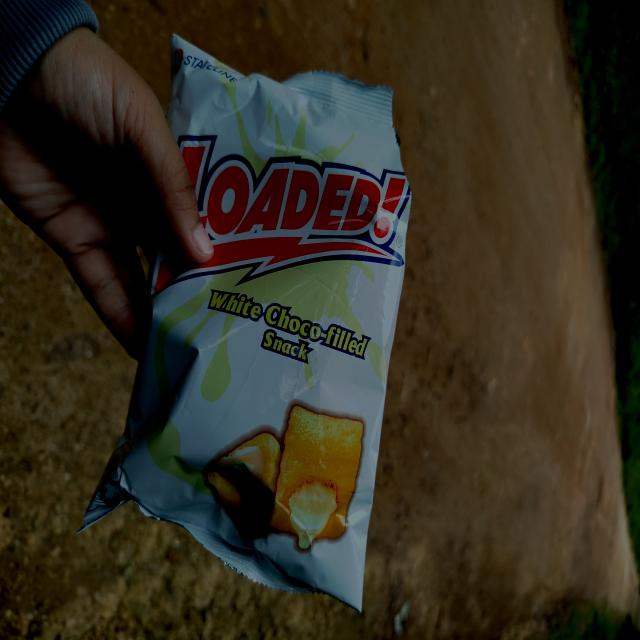residual: (79, 26, 436, 622)
